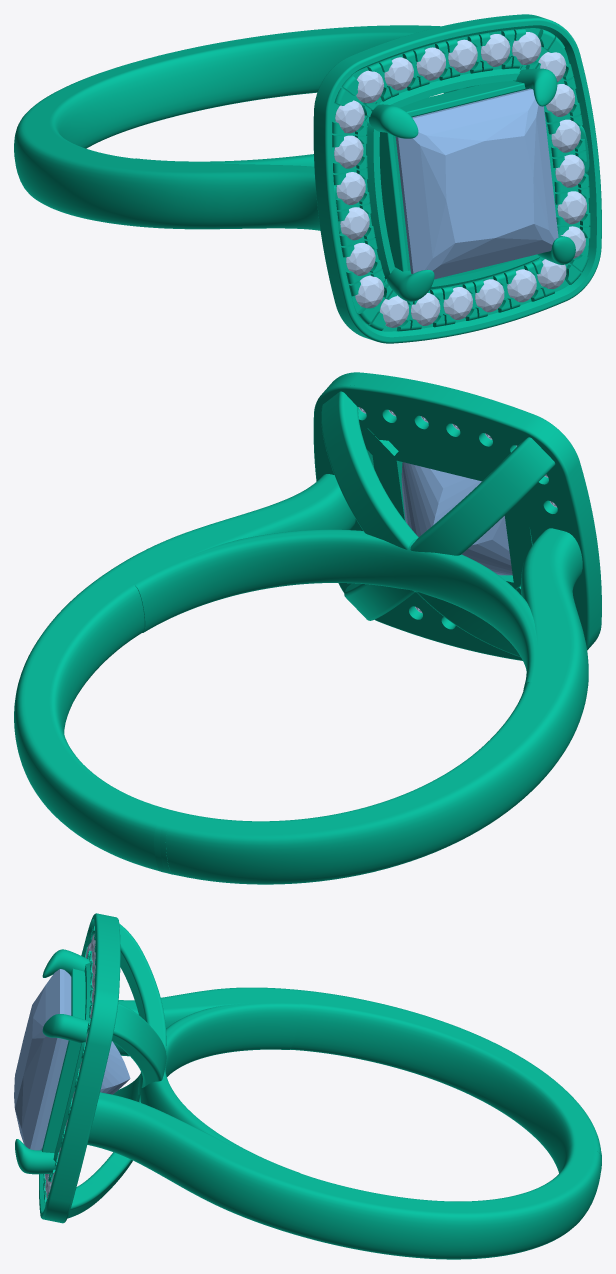
3 views of the same model, one above another, from view 1: azimuth 30°, elevation 25°; view 2: azimuth 150°, elevation 25°; view 3: azimuth 270°, elevation 25° (orthographic). The views are drawn at different scales.
Visible parts, largest first — view 1: JTC 11096(base).3dm, Diamond_Princess, Diamond_Round (×23); view 2: JTC 11096(base).3dm, Diamond_Princess; view 3: JTC 11096(base).3dm, Diamond_Princess.
Part boxes in pixels (x1,y1,x2,y2): JTC 11096(base).3dm: (14, 14, 601, 343); Diamond_Princess: (395, 88, 558, 279); Diamond_Round (×23): (334, 32, 586, 327); JTC 11096(base).3dm: (14, 372, 601, 884); Diamond_Princess: (401, 462, 512, 575); JTC 11096(base).3dm: (15, 913, 601, 1259); Diamond_Princess: (14, 969, 130, 1150).
Size of the model in its own units: 2.44 by 1.33 by 2.87.
